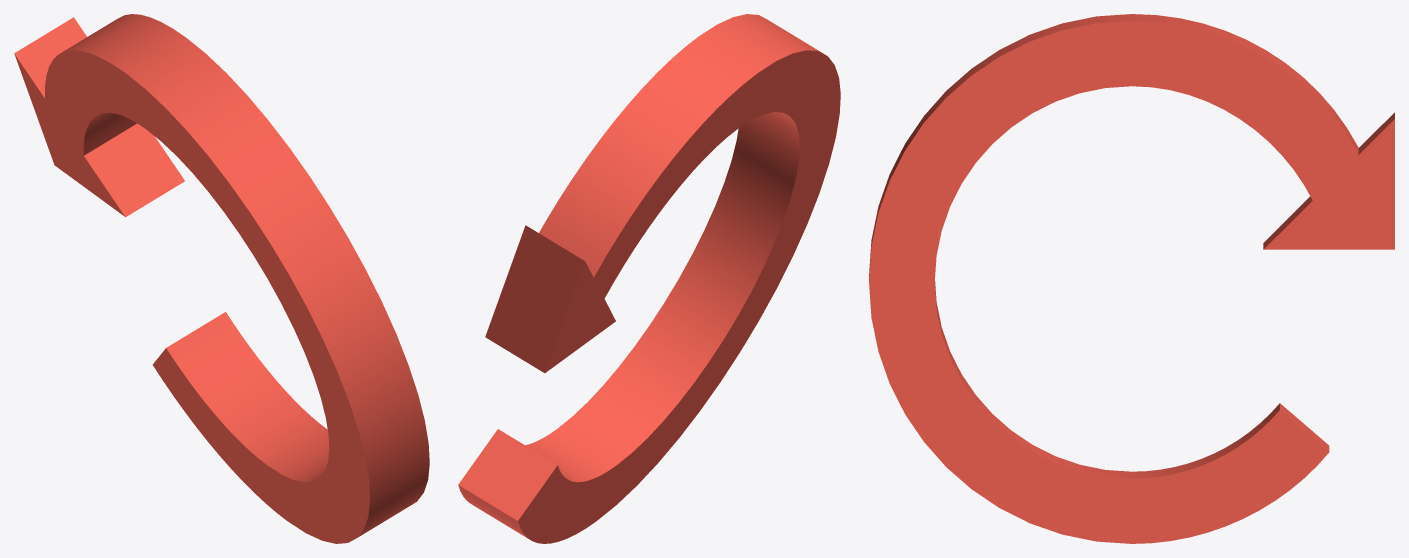
Rendered from reload.fbx.
3 views of the same model, side by side, from view 1: azimuth 30°, elevation 25°; view 2: azimuth 150°, elevation 25°; view 3: azimuth 270°, elevation 25° (orthographic). The views are drawn at different scales.
Visible parts, largest first — view 1: Curve; view 2: Curve; view 3: Curve.
Part boxes in pixels (left/top/right/bottom): Curve: left=14, top=14, right=429, bottom=543; Curve: left=458, top=14, right=840, bottom=543; Curve: left=869, top=14, right=1394, bottom=543.
Size of the model in its own units: 0.2585 by 0.5687 by 0.5764.
